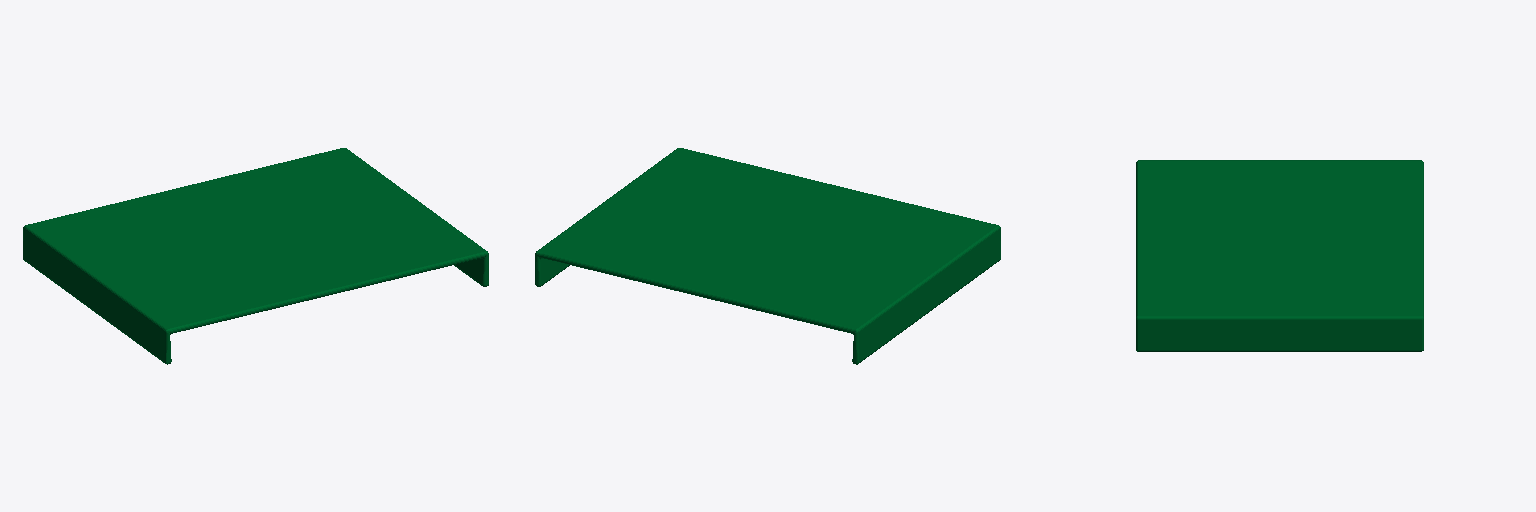
Rendered from GreenSheet.obj.
3 renders of one model, left to right at view 1: azimuth 30°, elevation 25°; view 2: azimuth 150°, elevation 25°; view 3: azimuth 270°, elevation 25°, orthographic.
Visible parts, largest first — view 1: Green_Sheet_Cube.016; view 2: Green_Sheet_Cube.016; view 3: Green_Sheet_Cube.016.
Boxes of the visible parts, <box> form: Green_Sheet_Cube.016: <box>23,148,488,364</box>; Green_Sheet_Cube.016: <box>535,148,1000,364</box>; Green_Sheet_Cube.016: <box>1136,160,1423,351</box>.
Bounding box in the file's own units: 0.9014 × 0.0941 × 0.6945.